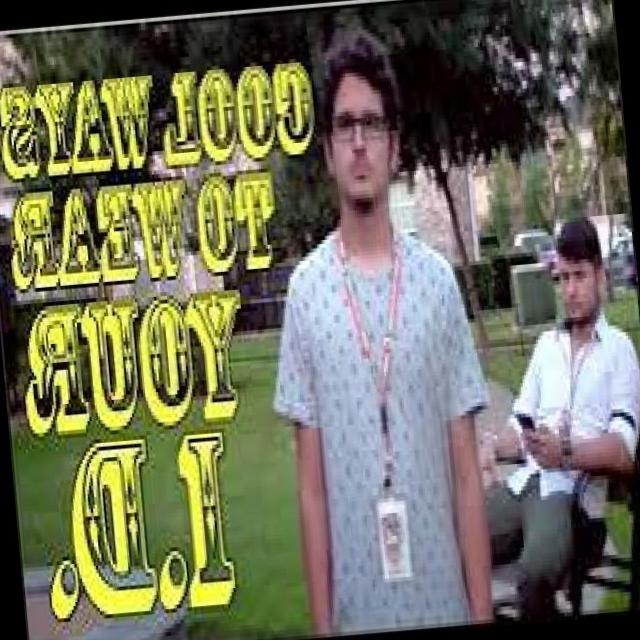id_card: (329, 216, 436, 580), (538, 328, 600, 449)
